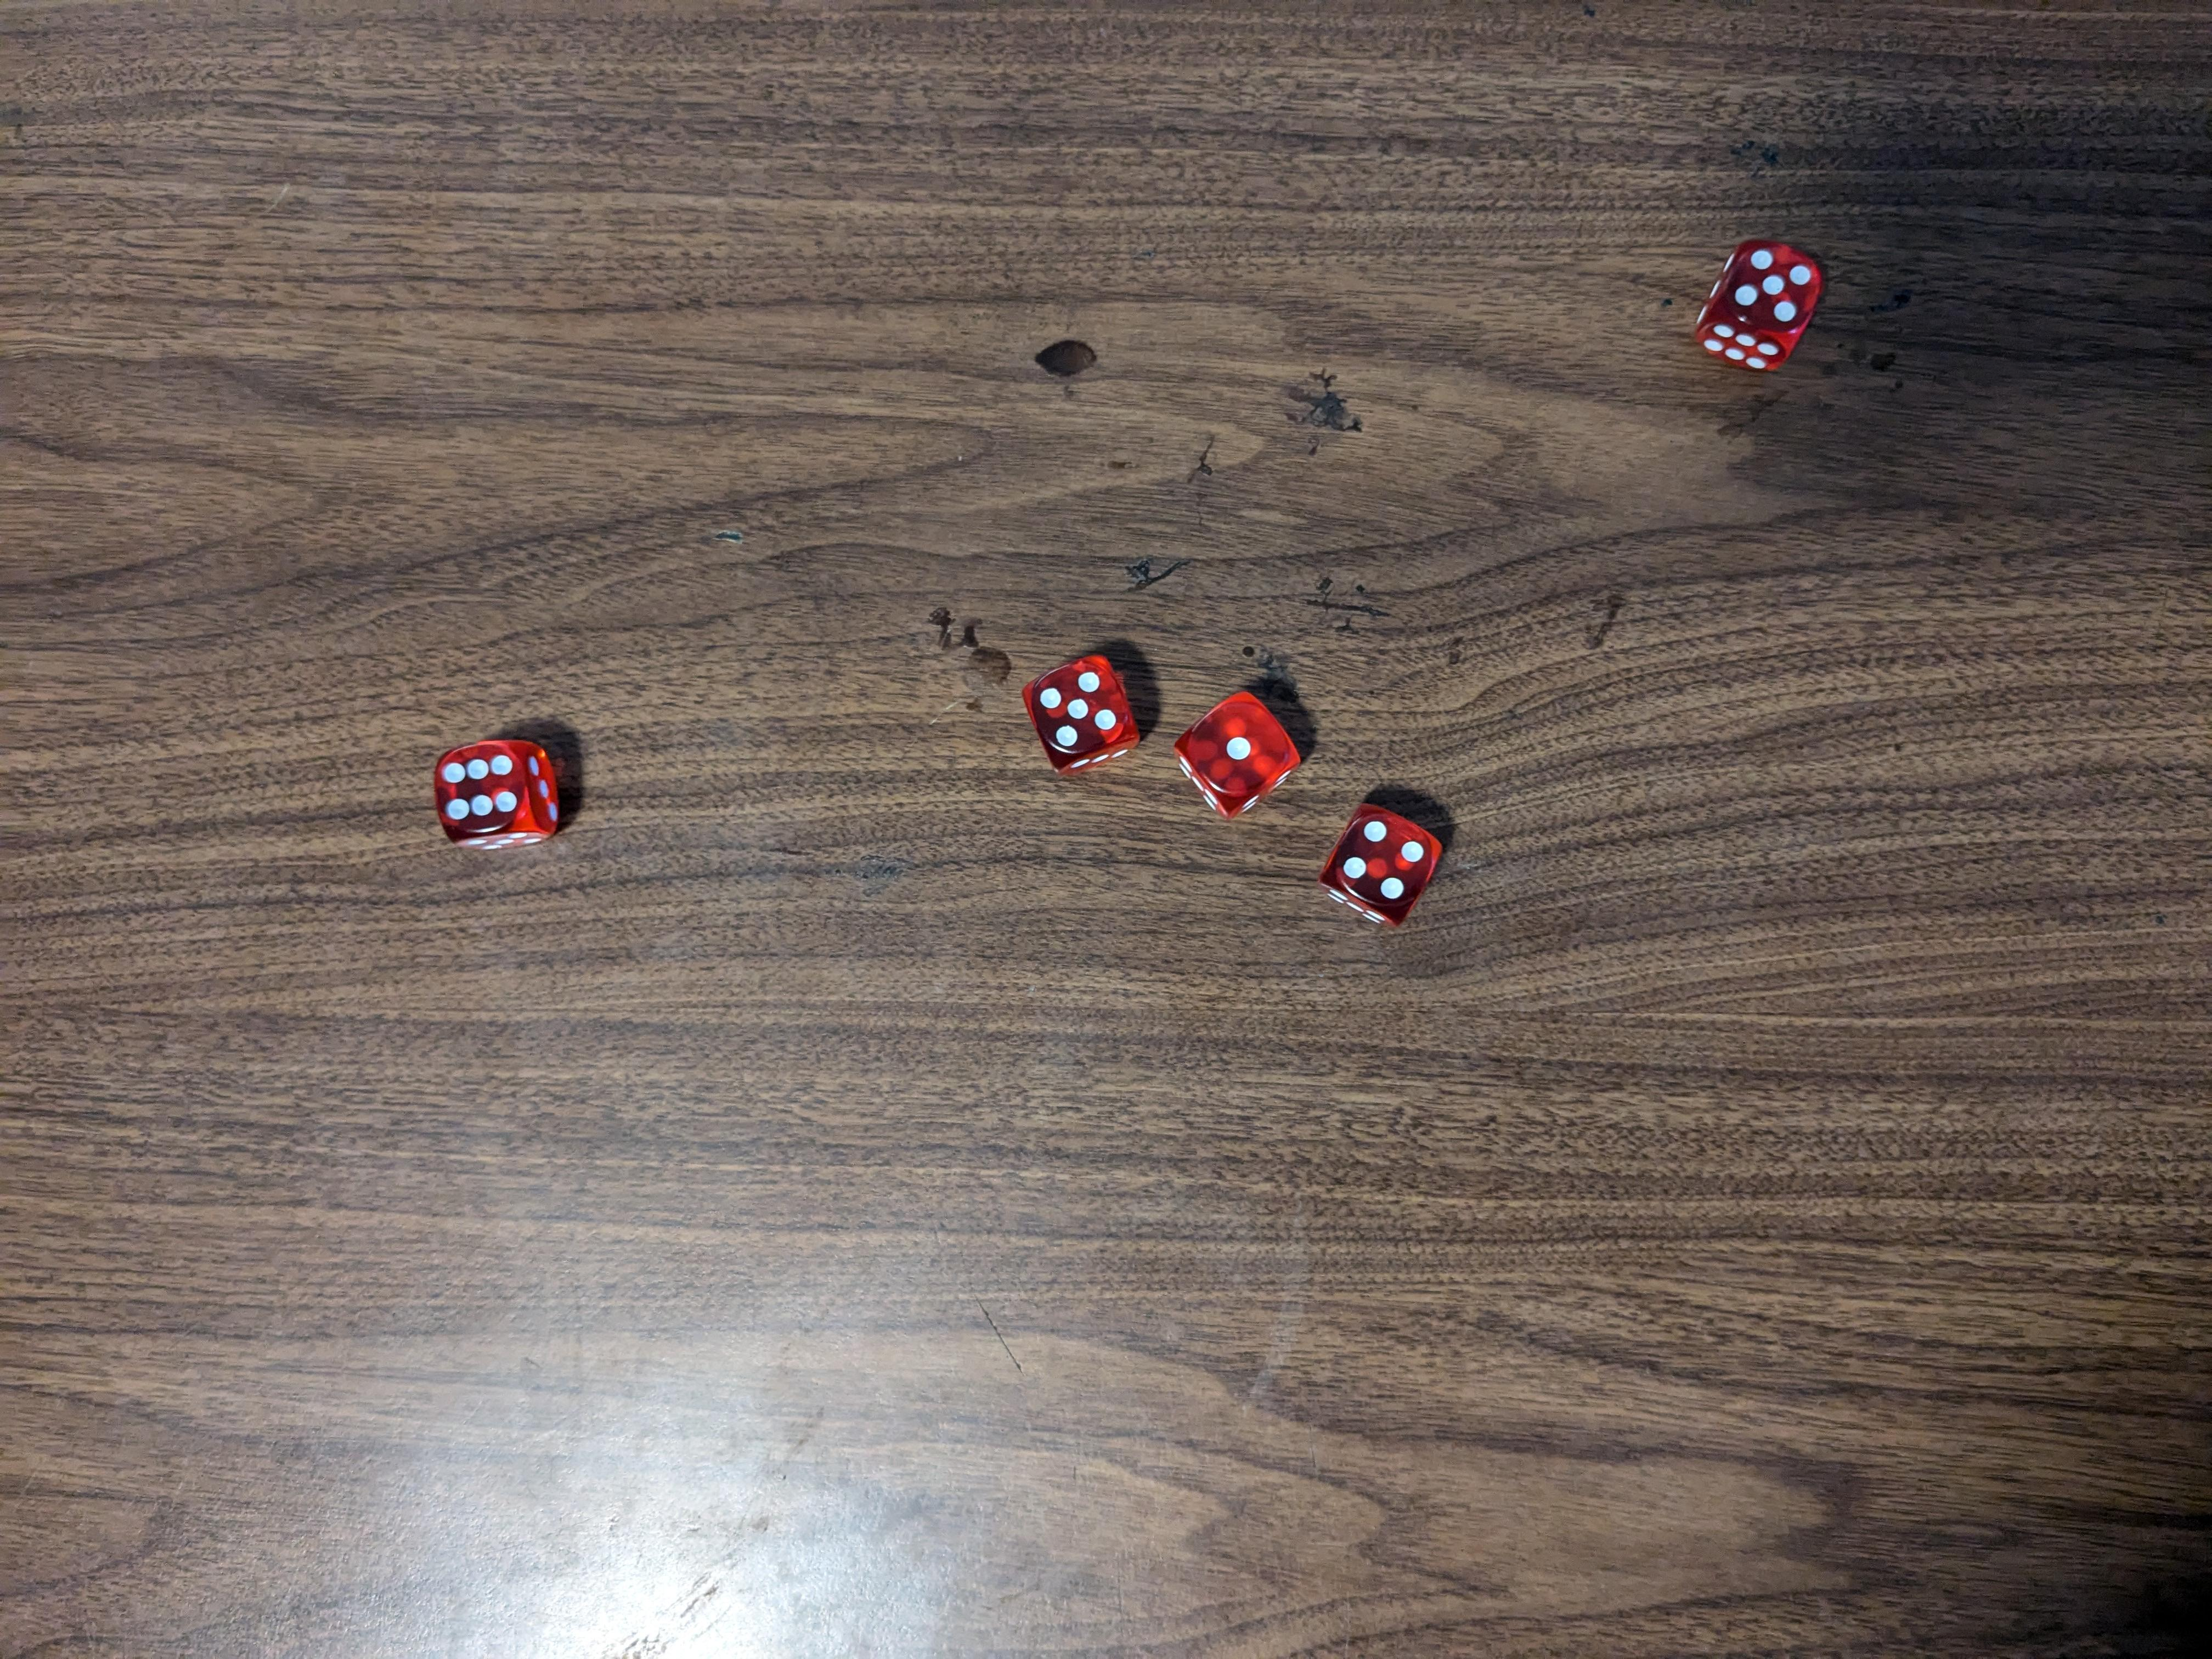five: (1698, 237, 1827, 375), (1019, 647, 1141, 777)
four: (1327, 796, 1449, 936)
one: (1177, 688, 1301, 819)
six: (430, 732, 559, 854)
